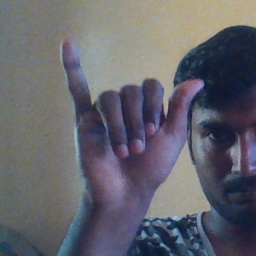J: (58, 38, 207, 192)
